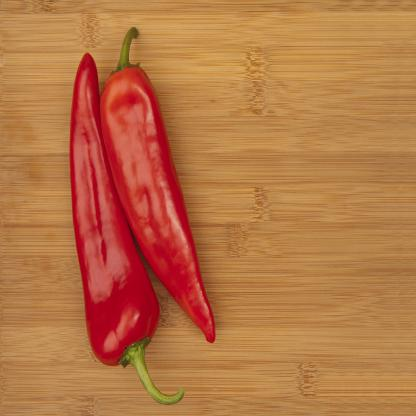chilli: (66, 49, 186, 414), (101, 21, 217, 345)
